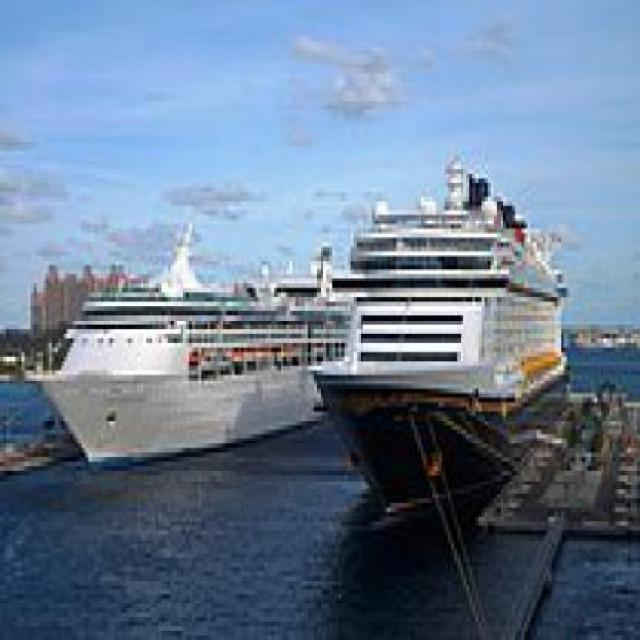cruise: (306, 147, 586, 527), (23, 207, 367, 463)
